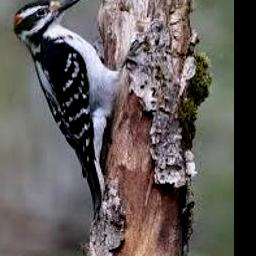Woodpecker: (14, 0, 121, 216)
